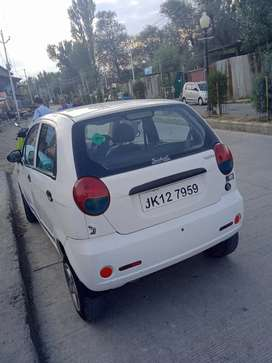JK127959: (138, 174, 203, 214)
